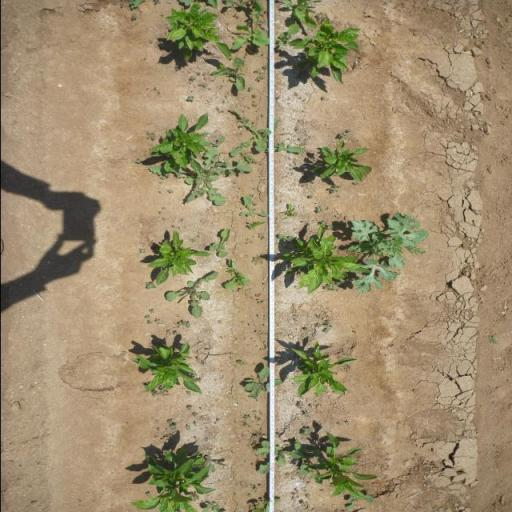plant: (277, 222, 371, 296), (128, 447, 217, 512), (285, 18, 361, 84), (311, 428, 379, 498), (148, 109, 216, 172), (163, 4, 232, 64), (288, 342, 359, 398), (130, 341, 203, 395), (144, 230, 213, 286), (308, 140, 374, 182)
weed: (346, 209, 432, 295), (148, 147, 253, 207), (225, 108, 306, 157), (164, 270, 220, 321), (281, 436, 321, 479), (231, 10, 268, 52), (211, 58, 246, 94), (281, 0, 322, 30), (255, 440, 288, 475), (242, 366, 270, 400), (263, 23, 301, 48), (221, 259, 249, 292), (208, 228, 231, 258), (238, 196, 268, 219), (344, 496, 374, 512), (223, 0, 263, 11), (261, 497, 282, 512), (205, 456, 227, 470), (280, 204, 298, 221), (237, 149, 256, 164), (277, 233, 294, 247), (201, 501, 222, 512), (247, 222, 266, 231), (332, 279, 352, 287), (251, 254, 264, 266), (300, 426, 313, 436), (487, 335, 500, 345), (324, 286, 340, 294), (176, 319, 190, 328), (315, 12, 326, 22), (244, 288, 254, 298), (144, 282, 156, 290), (252, 484, 262, 493), (146, 132, 156, 141), (252, 433, 265, 439), (185, 94, 194, 102), (254, 76, 266, 82), (328, 187, 338, 194), (257, 232, 265, 240), (242, 414, 251, 421), (236, 360, 246, 366), (190, 494, 200, 500), (325, 320, 332, 328), (150, 390, 157, 398), (157, 386, 165, 393), (338, 133, 346, 140), (250, 442, 256, 450), (297, 401, 303, 409), (302, 412, 310, 418), (168, 425, 176, 431), (188, 238, 196, 244), (130, 12, 136, 20), (174, 64, 180, 72), (253, 417, 262, 422), (323, 328, 330, 334), (186, 404, 192, 411), (184, 390, 191, 396), (226, 268, 233, 274), (135, 158, 142, 164), (316, 207, 322, 214), (326, 224, 332, 231), (256, 300, 266, 304), (252, 69, 260, 74), (319, 220, 327, 225), (314, 322, 320, 328), (154, 318, 160, 324), (143, 314, 149, 320), (148, 308, 154, 314), (138, 248, 144, 254), (262, 64, 268, 70), (320, 96, 326, 102), (185, 425, 190, 432), (231, 12, 238, 17), (304, 328, 312, 332), (165, 190, 173, 194), (188, 76, 196, 80), (167, 420, 173, 425), (146, 320, 152, 325), (345, 127, 350, 133), (158, 176, 165, 180), (144, 493, 150, 497), (196, 378, 202, 382), (172, 332, 178, 336), (251, 94, 256, 98), (164, 330, 170, 333), (252, 330, 258, 333), (316, 315, 320, 319), (248, 194, 255, 196), (346, 422, 349, 426), (170, 226, 176, 228), (352, 182, 358, 184), (256, 314, 259, 318), (307, 196, 312, 198), (161, 208, 165, 210), (162, 218, 165, 220), (158, 192, 161, 194), (158, 212, 160, 214)
